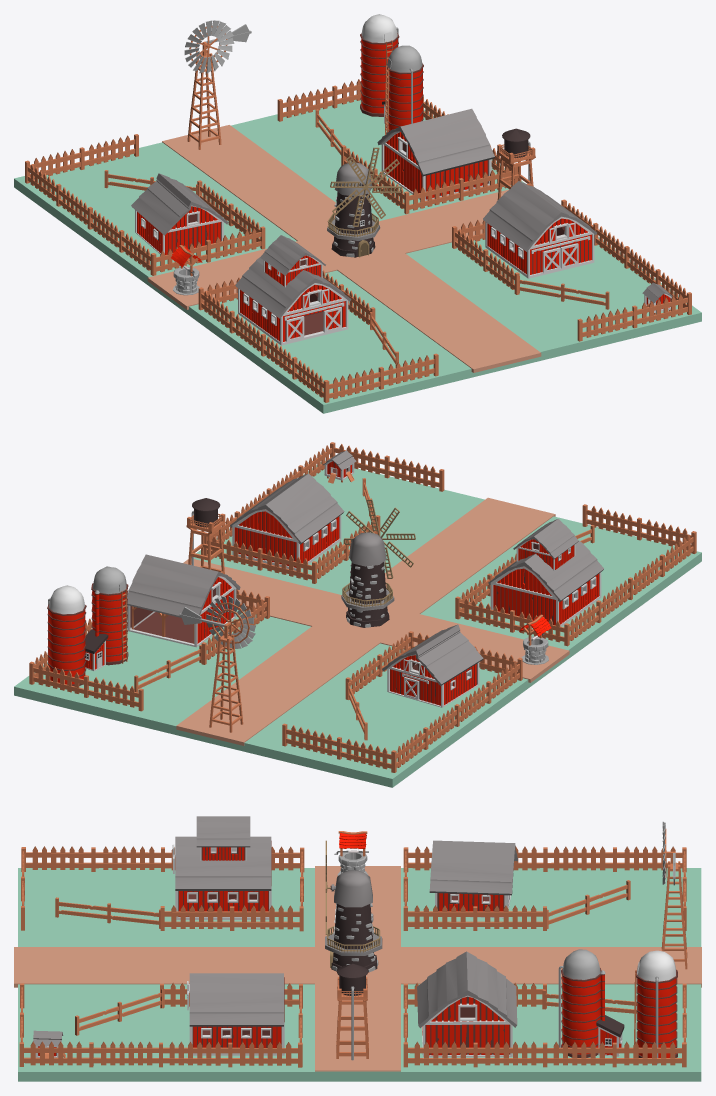
File: granja.gltf
3 renders of one model, top to bottom at view 1: azimuth 30°, elevation 25°; view 2: azimuth 150°, elevation 25°; view 3: azimuth 270°, elevation 25°, orthographic. The views are drawn at different scales.
Visible parts, largest first — view 1: Object_8, Object_6, Object_10, Object_17, Object_16, Object_9, Object_18, Object_14, Object_12, Object_11, Object_15, Object_13 (+1 smaller); view 2: Object_8, Object_6, Object_17, Object_9, Object_10, Object_16, Object_18, Object_12, Object_14, Object_11, Object_13, Object_15 (+1 smaller); view 3: Object_8, Object_6, Object_17, Object_9, Object_10, Object_16, Object_18, Object_11, Object_12, Object_13, Object_14, Object_15 (+1 smaller).
Part boxes in pixels (x1,y1,x2,y2): Object_8: [14, 99, 701, 413]; Object_6: [147, 125, 541, 372]; Object_10: [25, 134, 691, 402]; Object_17: [131, 108, 672, 318]; Object_16: [137, 39, 670, 341]; Object_9: [187, 26, 691, 402]; Object_18: [135, 14, 671, 345]; Object_14: [184, 20, 530, 257]; Object_12: [139, 143, 488, 341]; Object_11: [331, 101, 530, 257]; Object_15: [327, 147, 401, 257]; Object_13: [291, 33, 670, 338]; Object_8: [14, 460, 701, 787]; Object_6: [176, 497, 569, 745]; Object_17: [127, 450, 603, 685]; Object_9: [29, 442, 696, 732]; Object_10: [127, 442, 695, 772]; Object_16: [48, 461, 599, 705]; Object_18: [48, 460, 601, 707]; Object_12: [130, 539, 595, 704]; Object_14: [48, 510, 388, 664]; Object_11: [85, 498, 389, 653]; Object_13: [47, 462, 414, 696]; Object_15: [342, 499, 415, 607]; Object_8: [18, 868, 701, 1081]; Object_6: [14, 866, 701, 1071]; Object_17: [33, 816, 517, 1046]; Object_9: [20, 829, 687, 1067]; Object_10: [19, 831, 686, 1067]; Object_16: [38, 833, 676, 1057]; Object_18: [35, 844, 675, 1057]; Object_11: [330, 885, 624, 1037]; Object_12: [178, 841, 510, 1054]; Object_13: [38, 968, 677, 1057]; Object_14: [332, 821, 675, 1064]; Object_15: [325, 840, 380, 967].
Bounding box in the file's own units: 14.86 × 5.19 × 21.08.
